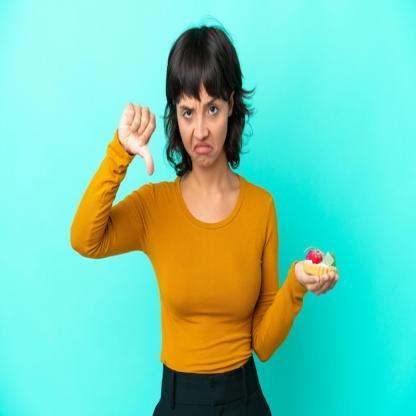thumb_down: (115, 99, 157, 180)
